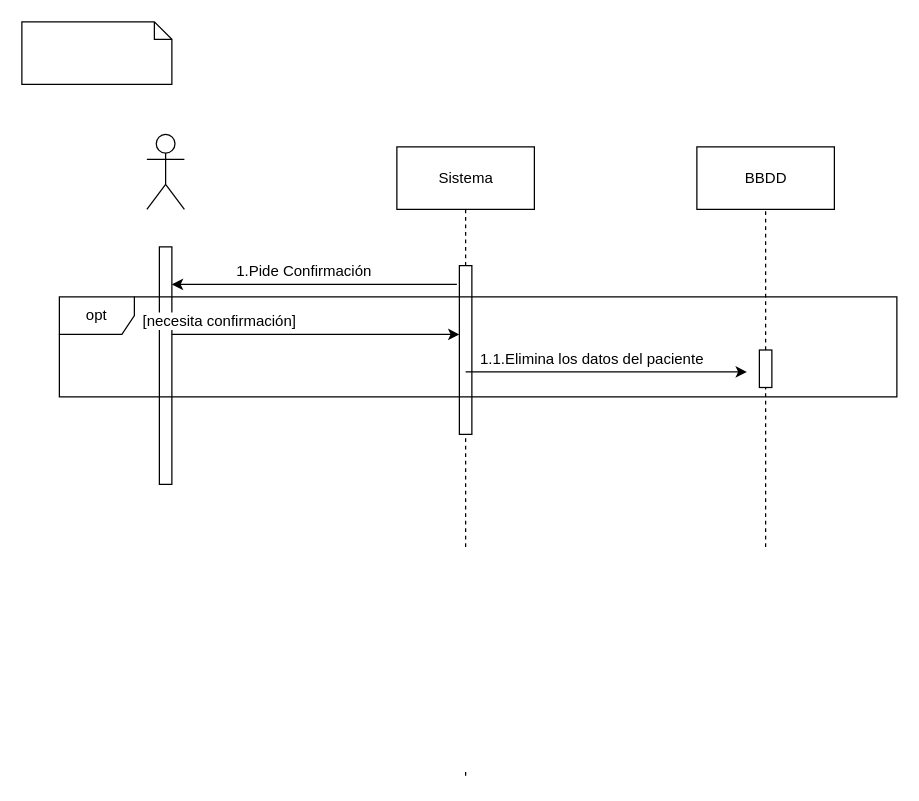
This 919x801 diagram has some shape labels left out. The centre of each missing label's shape, as x and y in pixels:
"Eliminar Paciente" goes at (x=96, y=52).
"Secretario" goes at (x=165, y=171).
